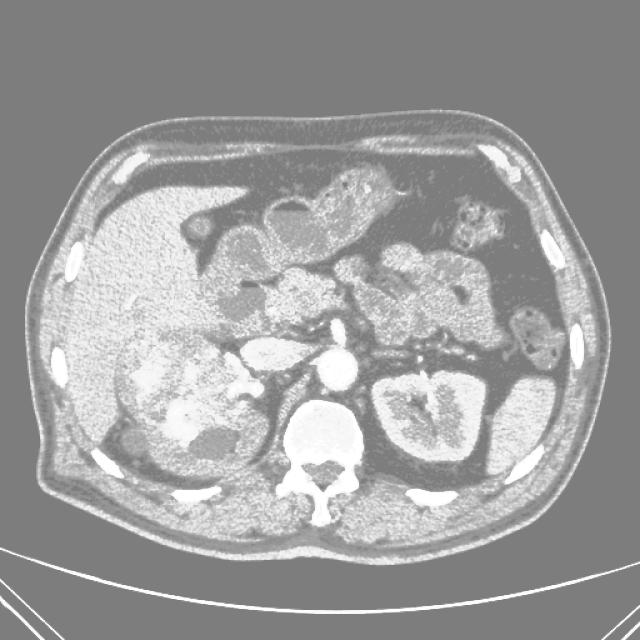TUMOR: (93, 320, 552, 459)
